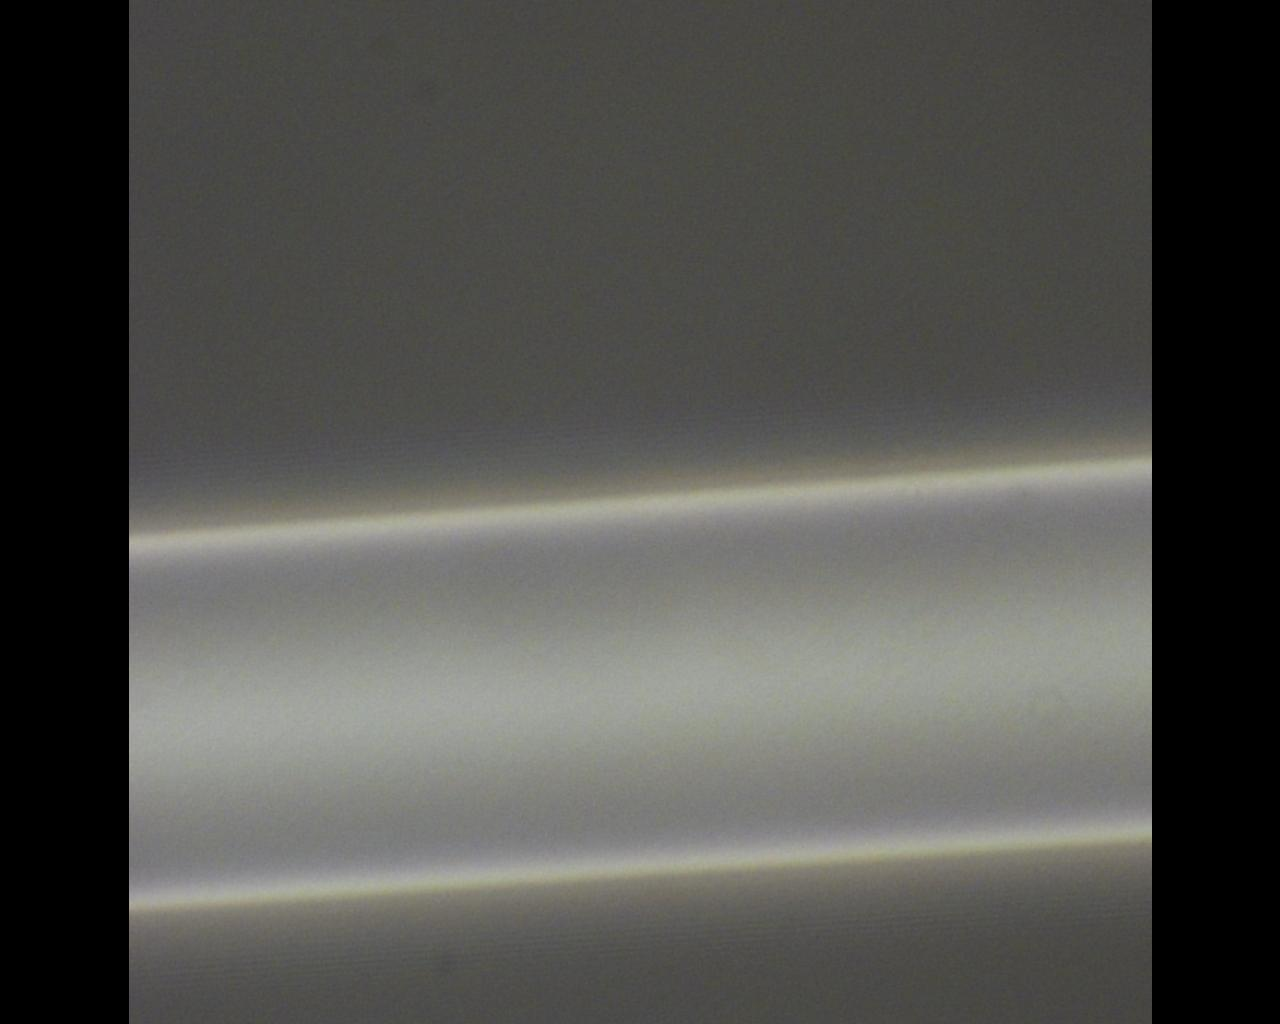fiber: (0, 762, 524, 1024), (524, 647, 1277, 814), (47, 305, 524, 409)
